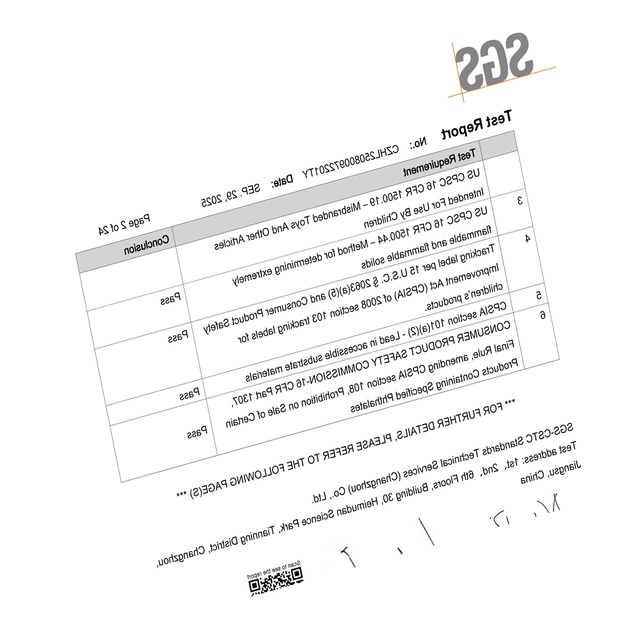sgs: (456, 32, 533, 92)
